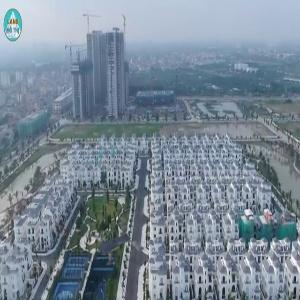drone: (82, 211, 149, 278)
